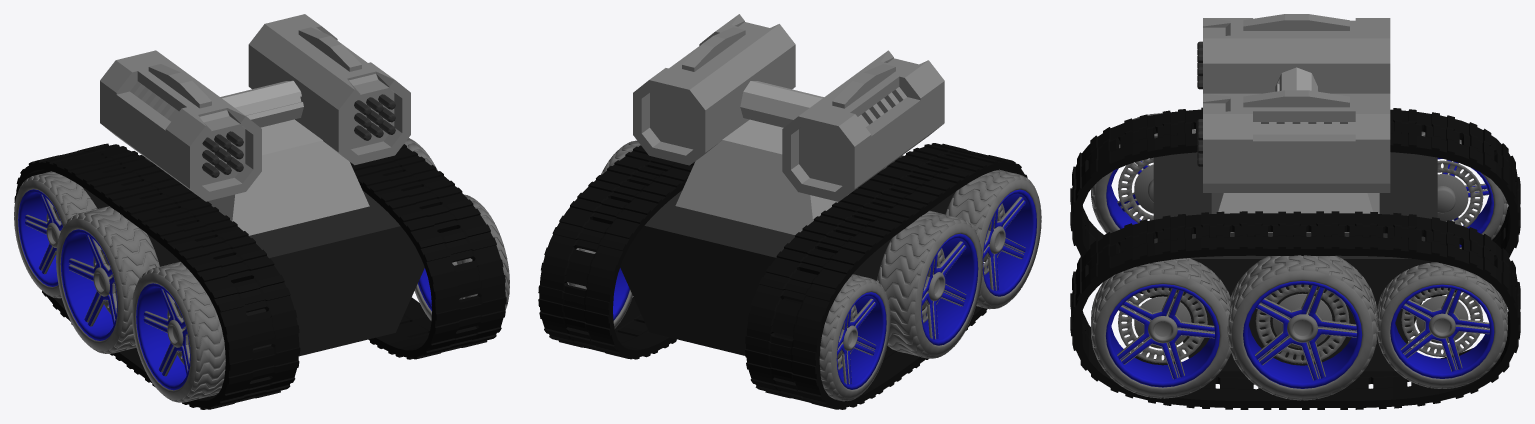
File: tanktaret3.fbx
3 views of the same model, side by side, from view 1: azimuth 30°, elevation 25°; view 2: azimuth 150°, elevation 25°; view 3: azimuth 270°, elevation 25° (orthographic). The views are drawn at different scales.
Visible parts, largest first — view 1: Cube.002, Plane, Cube.001; view 2: Cube.002, Cube.001, Plane; view 3: Cube.002, Cube.001, Plane.
Boxes of the visible parts, x1,y1,x2,y2 form: Cube.002: (14, 138, 509, 402); Plane: (100, 14, 410, 235); Cube.001: (14, 143, 506, 409); Cube.002: (567, 140, 1041, 401); Cube.001: (538, 143, 1027, 409); Plane: (633, 14, 944, 234); Cube.002: (1091, 113, 1507, 400); Cube.001: (1070, 107, 1520, 409); Plane: (1197, 14, 1390, 232).
Bounding box in the file's own units: 474 × 371 × 537.
